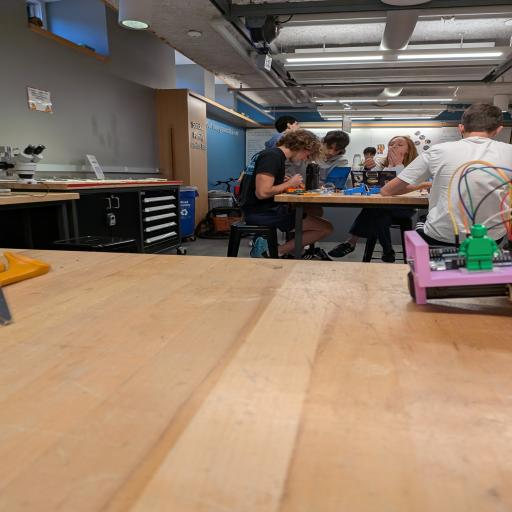Minifig: (459, 224, 500, 271)
